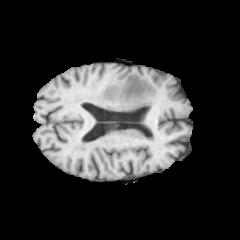glioma: (101, 74, 155, 107)
